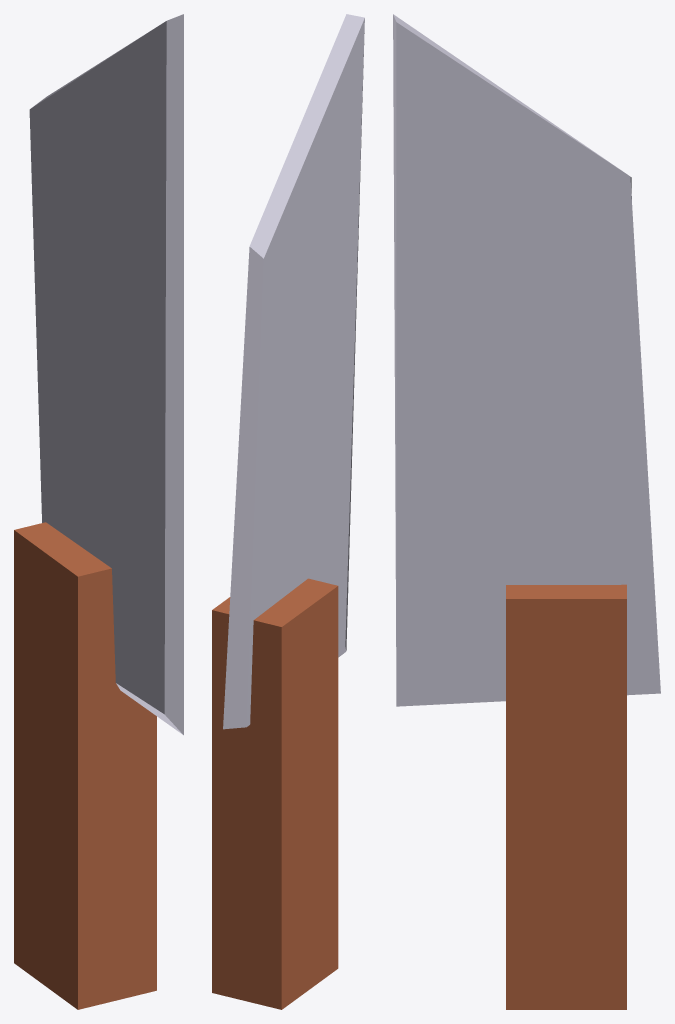
File: messer.glb
The picture shows the model from 3 angles, left to right: view 1: azimuth 30°, elevation 25°; view 2: azimuth 150°, elevation 25°; view 3: azimuth 270°, elevation 25°; orthographic projection. The views are drawn at different scales.
Parts seen in each view (by area): view 1: Cube.001, Cube; view 2: Cube.001, Cube; view 3: Cube.001, Cube.
Part boxes in pixels (x1,y1,x2,y2): Cube.001: (29, 14, 183, 735); Cube: (14, 522, 156, 1009); Cube.001: (223, 14, 364, 729); Cube: (212, 578, 338, 1009); Cube.001: (393, 14, 660, 706); Cube: (506, 584, 626, 1009).
Size of the model in its own units: 0.2291 by 2.84 by 0.7095.
